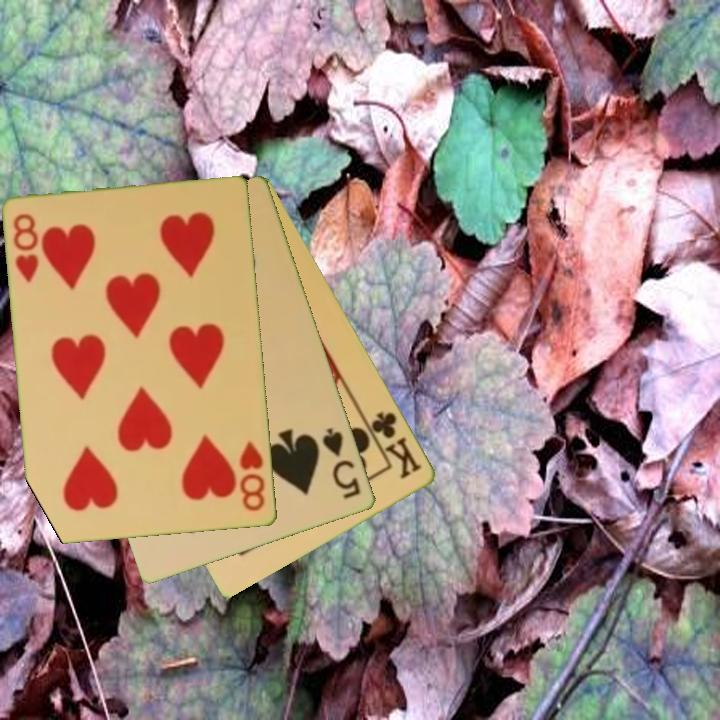5s: (319, 424, 364, 502)
8h: (10, 210, 42, 286), (237, 438, 268, 515)
Kc: (361, 407, 425, 482)
